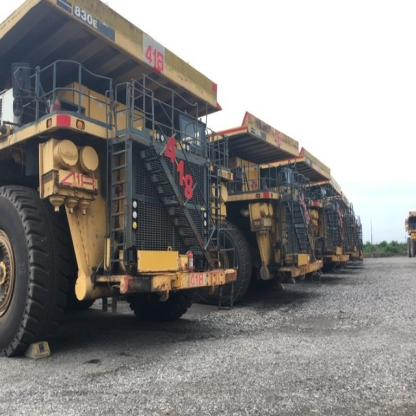dump_truck: (1, 2, 233, 351), (235, 100, 320, 317)
